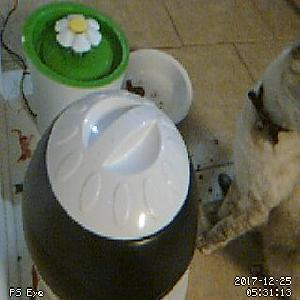cat: (193, 36, 300, 300)
fountain: (21, 1, 130, 90)
